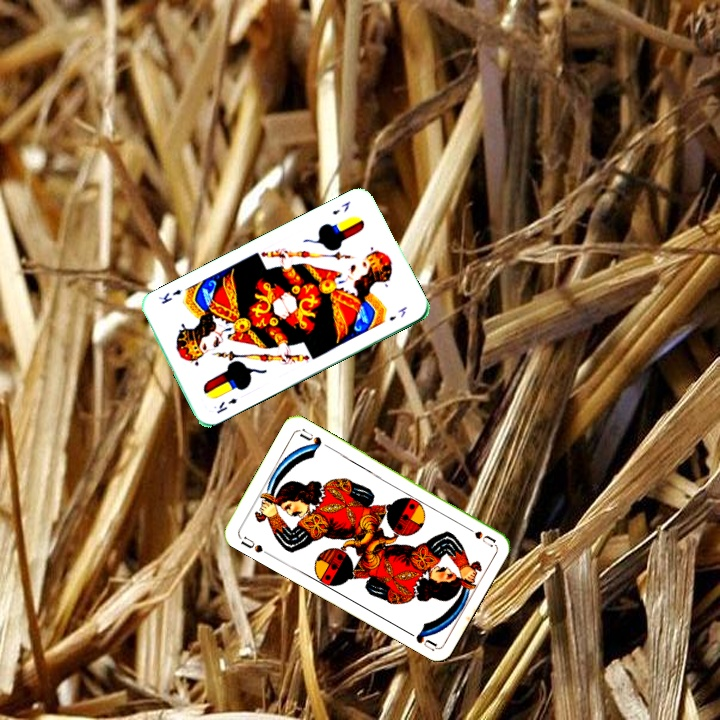EK: (212, 394, 239, 416), (328, 197, 353, 217)
SU: (459, 521, 498, 549), (237, 532, 266, 555)
